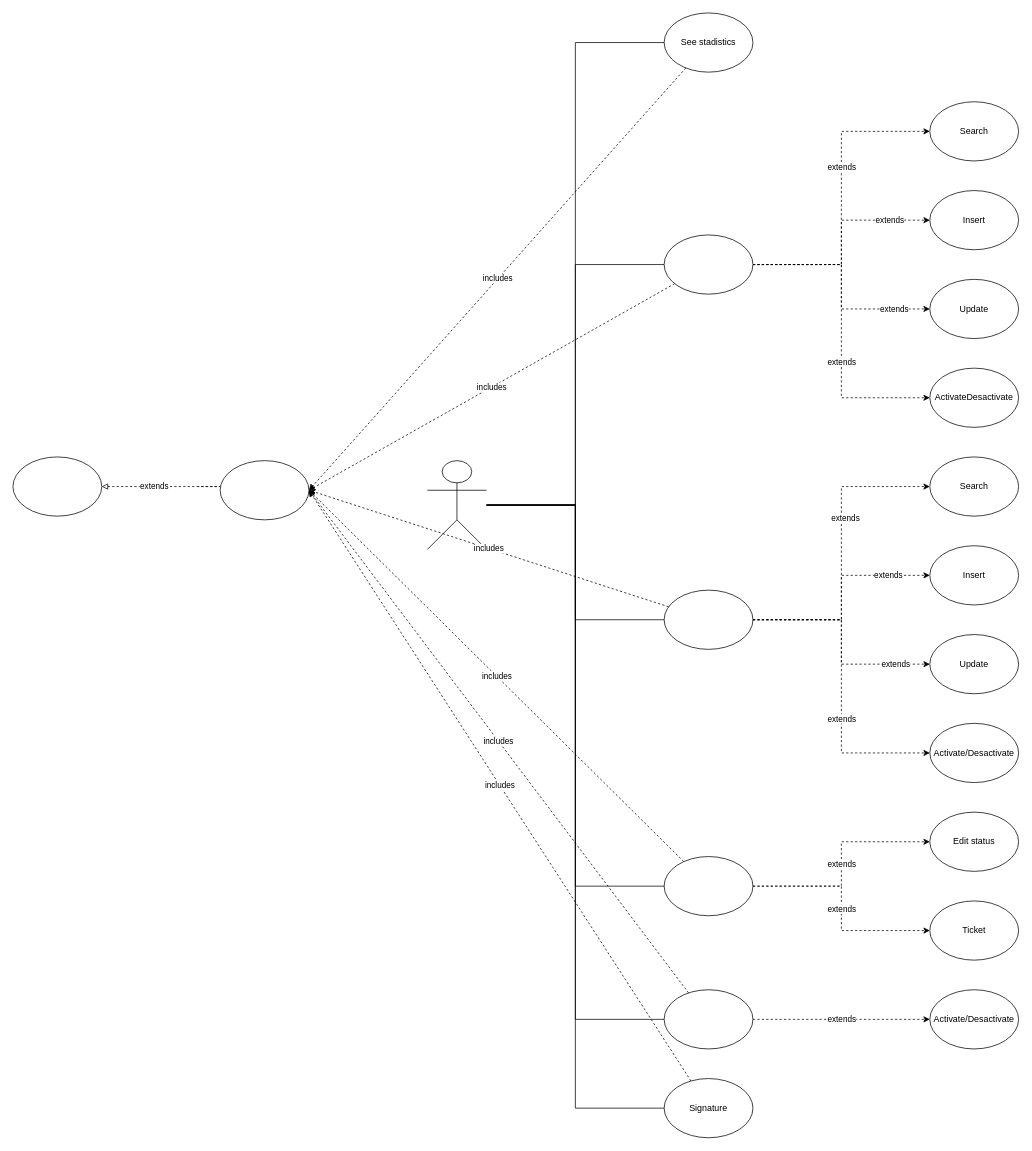
Some shapes in this 1032 by 1151 pixel diagram are drawn without their labels. The box of each missing label's shape, as (x1, y1, x2, y2) in pixels:
Admin: (427, 460, 487, 549)
Log in: (219, 460, 309, 520)
Log out: (12, 456, 102, 516)
Manage categories: (663, 589, 753, 649)
Manage orders: (663, 856, 753, 916)
Manage products: (663, 234, 753, 294)
Manage users: (663, 989, 753, 1049)
